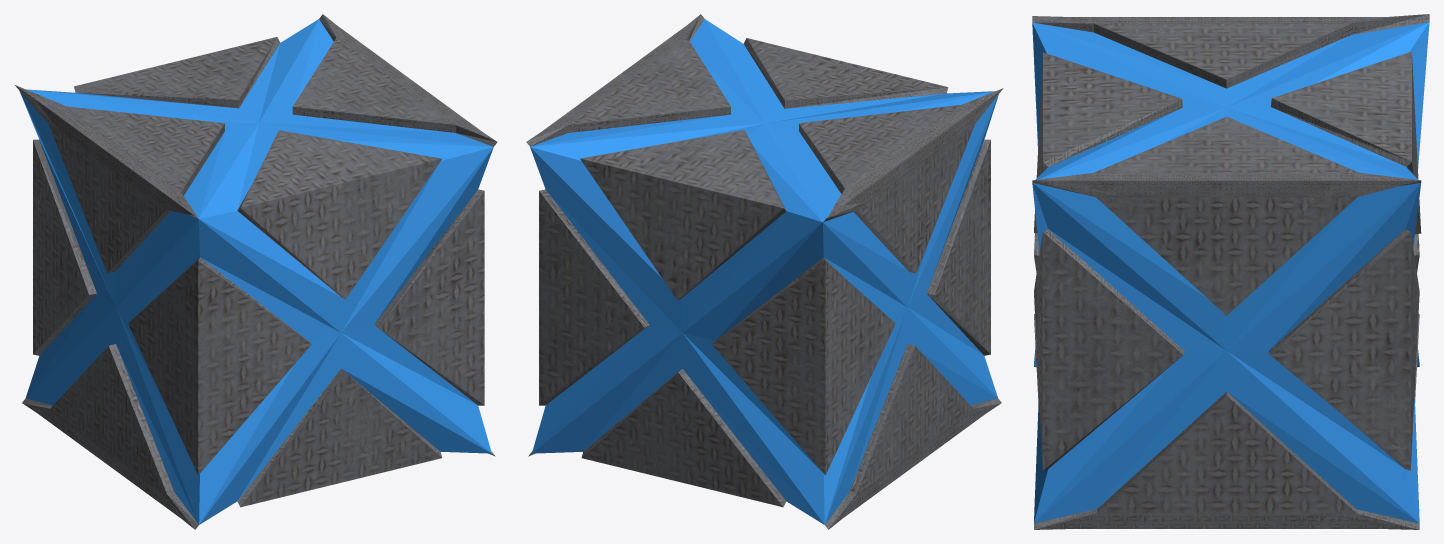
Rendered from Objects_Movible_box.fbx.
The picture shows the model from 3 angles, left to right: view 1: azimuth 30°, elevation 25°; view 2: azimuth 150°, elevation 25°; view 3: azimuth 270°, elevation 25°; orthographic projection. The views are drawn at different scales.
Visible parts, largest first — view 1: pCube1; view 2: pCube1; view 3: pCube1.
Boxes of the visible parts, x1,y1,x2,y2 form: pCube1: (15,14,497,529); pCube1: (526,14,1003,529); pCube1: (1032,14,1429,529).
Size of the model in its own units: 1.01 by 1 by 1.03.
